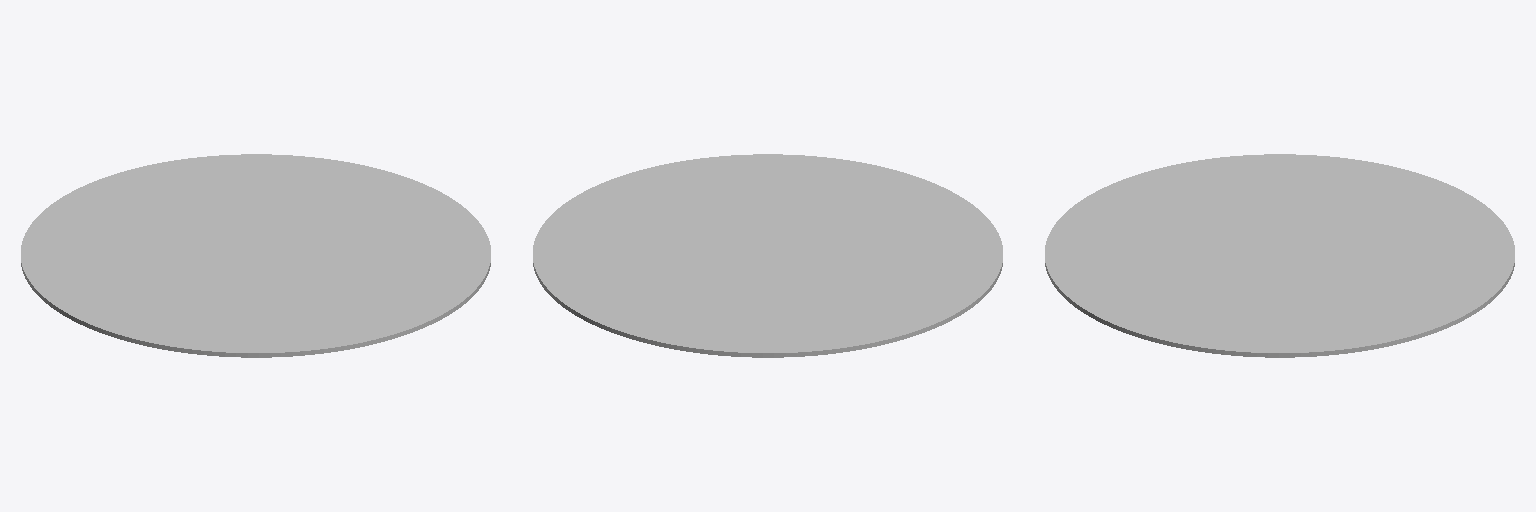
The model's file is grassfield.obj.
3 renders of one model, left to right at view 1: azimuth 30°, elevation 25°; view 2: azimuth 150°, elevation 25°; view 3: azimuth 270°, elevation 25°, orthographic.
Parts seen in each view (by area): view 1: grass3_11; view 2: grass3_11; view 3: grass3_11.
Part boxes in pixels (bbox=[...]): grass3_11: bbox=[21, 154, 490, 357]; grass3_11: bbox=[533, 154, 1002, 357]; grass3_11: bbox=[1045, 154, 1514, 357].
Size of the model in its own units: 37.6 by 0.3912 by 37.6.